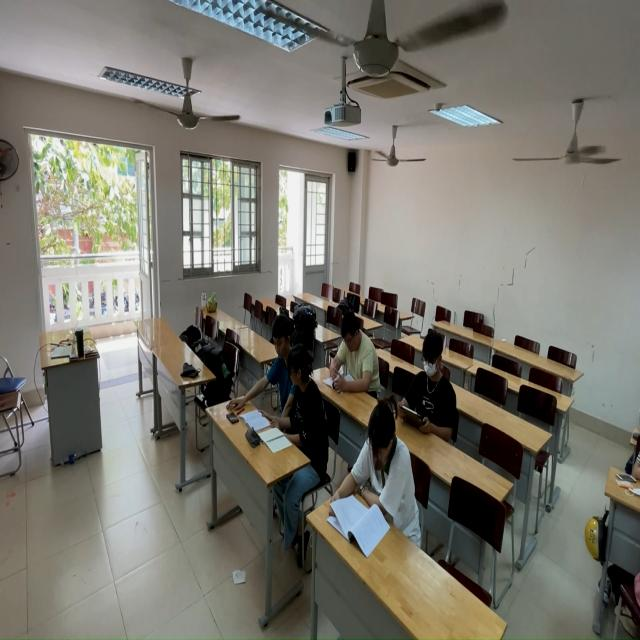read: (350, 396, 423, 534), (230, 316, 297, 419), (278, 347, 327, 478), (399, 334, 458, 437), (321, 311, 382, 395)
